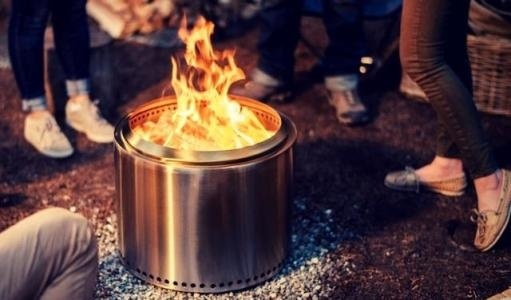fire: (124, 13, 272, 150)
